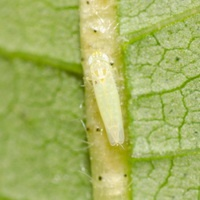insect: (119, 0, 199, 199), (88, 52, 123, 145)
